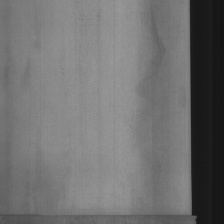welding_line: (1, 208, 205, 220)
